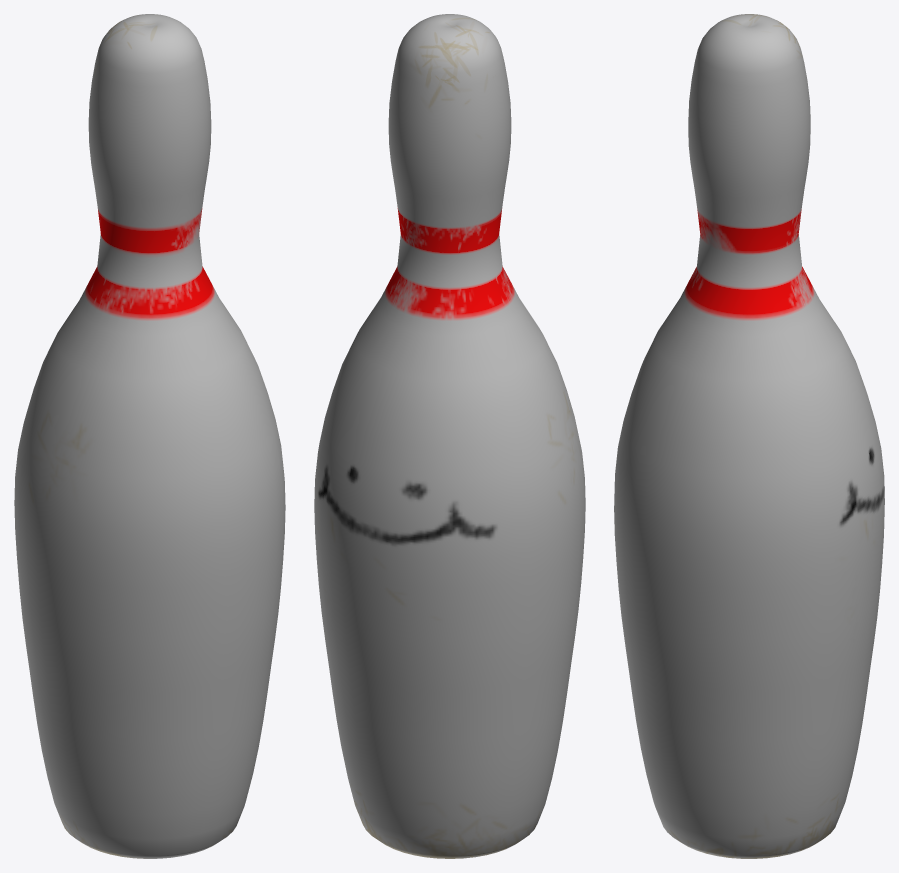
The model's file is bowlingpinALL.fbx.
3 views of the same model, side by side, from view 1: azimuth 30°, elevation 25°; view 2: azimuth 150°, elevation 25°; view 3: azimuth 270°, elevation 25° (orthographic).
Parts seen in each view (by area): view 1: pin; view 2: pin; view 3: pin.
Part boxes in pixels (x1,y1,x2,y2): pin: (14,14,285,858); pin: (314,14,585,858); pin: (614,14,884,858).
Size of the model in its own units: 2 by 6.55 by 2.
Materials: 1 (1 with a texture image).
